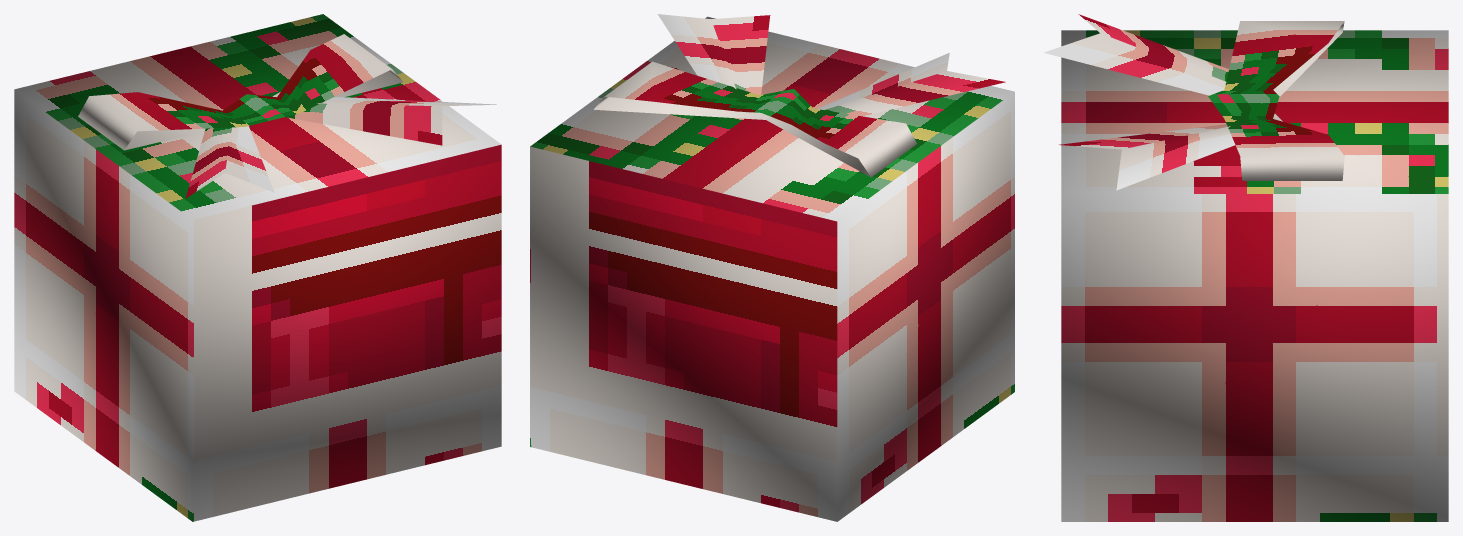
3 views of the same model, side by side, from view 1: azimuth 30°, elevation 25°; view 2: azimuth 150°, elevation 25°; view 3: azimuth 270°, elevation 25° (orthographic). The views are drawn at different scales.
Visible parts, largest first — view 1: 3259IMIG02_06; view 2: 3259IMIG02_06; view 3: 3259IMIG02_06.
Part boxes in pixels (x1,y1,x2,y2): 3259IMIG02_06: (14,14,501,521); 3259IMIG02_06: (530,14,1014,521); 3259IMIG02_06: (1044,14,1448,521).
Size of the model in its own units: 0.5107 by 0.4788 by 0.4946.
Materials: 1 (1 with a texture image).
